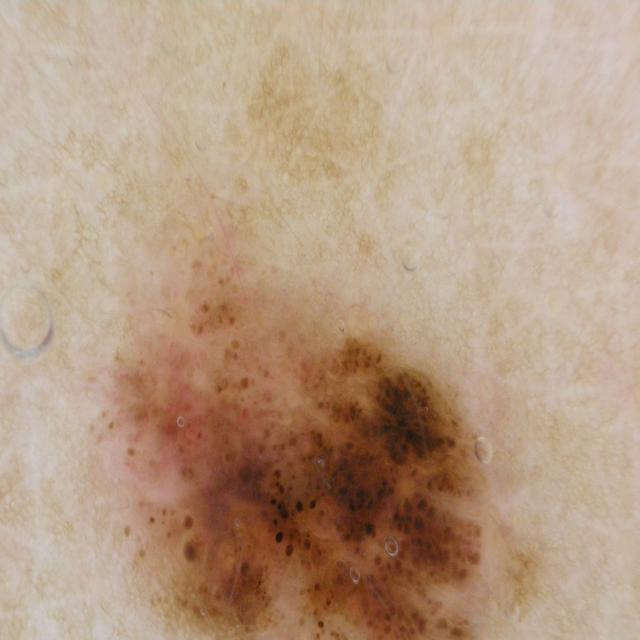Melanoma: (104, 215, 515, 640)
